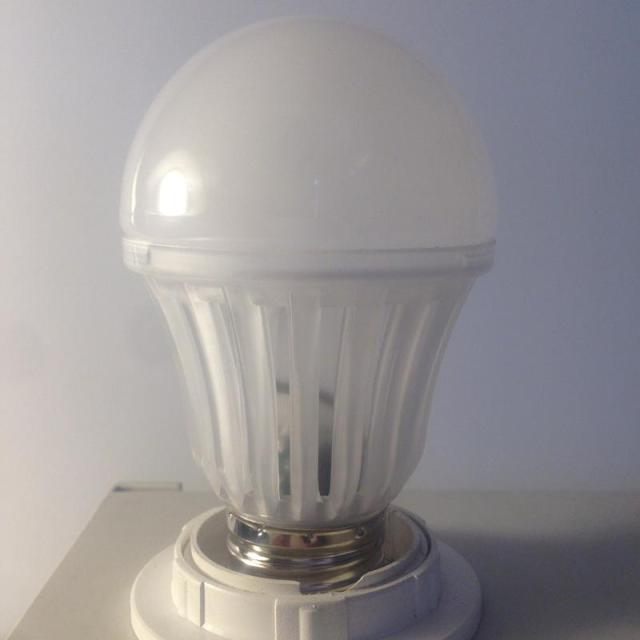non-organik: (85, 11, 549, 640)
